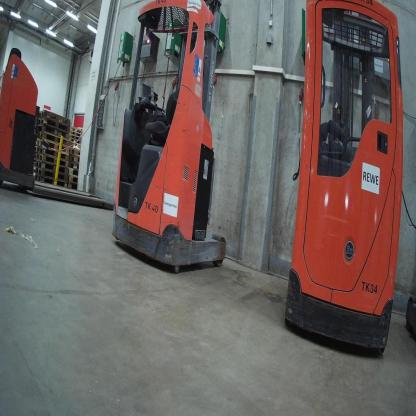forklift: (280, 1, 405, 379), (112, 0, 236, 265)
pallet: (36, 121, 69, 139), (36, 110, 70, 127), (35, 151, 68, 168), (35, 118, 70, 132), (37, 130, 69, 145), (35, 139, 67, 154), (33, 167, 66, 181), (34, 174, 67, 187), (37, 147, 69, 160), (35, 160, 67, 173), (64, 166, 79, 176), (66, 180, 78, 191), (69, 145, 80, 156), (68, 154, 81, 163), (69, 134, 82, 143), (70, 130, 82, 139), (66, 174, 79, 182), (68, 139, 81, 147), (71, 126, 84, 133), (68, 163, 79, 170)
pallet_truck: (0, 45, 116, 214)
